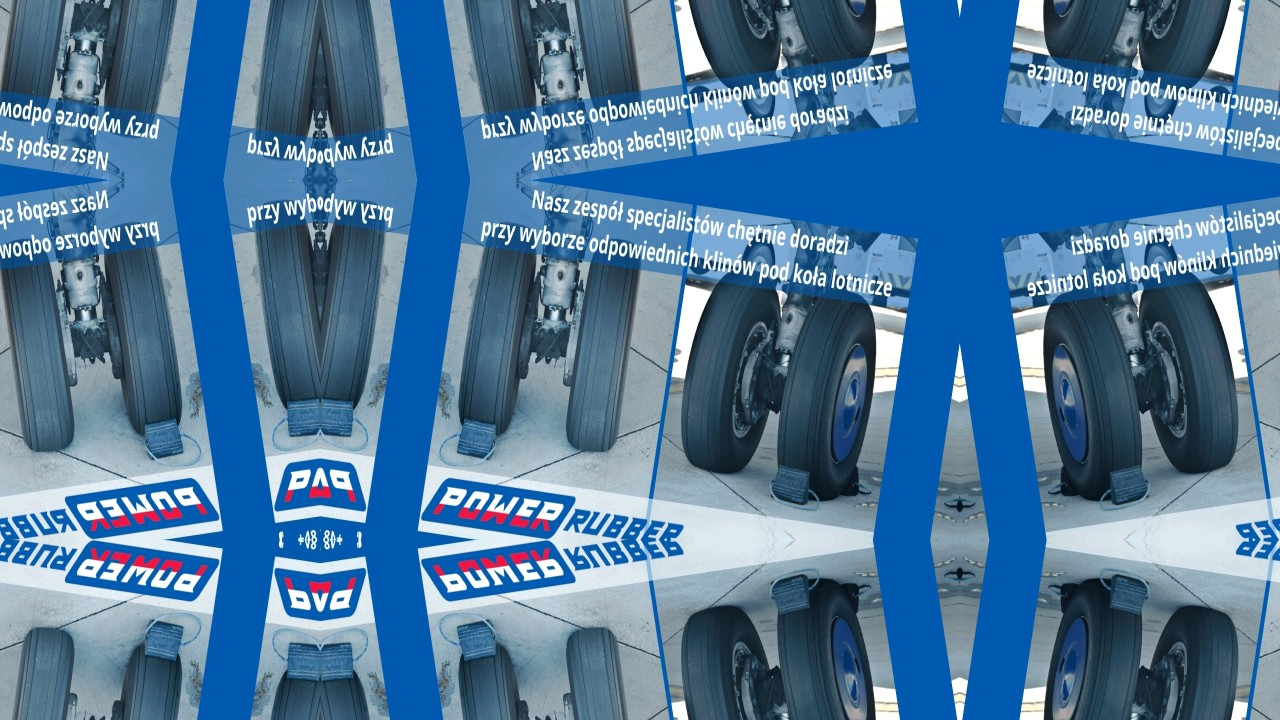chock: (140, 414, 186, 464), (454, 414, 500, 464), (140, 616, 186, 666), (454, 616, 500, 666), (769, 462, 814, 508), (1106, 462, 1151, 508), (769, 572, 814, 618), (1106, 572, 1151, 618), (282, 393, 320, 443), (320, 393, 358, 443), (282, 637, 320, 687), (320, 637, 358, 687), (841, 464, 865, 500), (1055, 464, 1079, 500), (841, 580, 865, 616), (1055, 580, 1079, 616)
wheel: (768, 290, 887, 506), (1033, 290, 1152, 506), (672, 271, 788, 479), (1132, 271, 1248, 479), (97, 219, 189, 439), (451, 219, 543, 439), (560, 237, 647, 455), (0, 237, 80, 455), (768, 574, 887, 720), (1033, 574, 1152, 720), (246, 196, 320, 417), (320, 196, 394, 417), (672, 601, 788, 720), (1132, 601, 1248, 720), (97, 0, 189, 141), (451, 0, 543, 141), (246, 0, 320, 164), (320, 0, 394, 164), (560, 0, 647, 123), (672, 0, 788, 89), (1132, 0, 1248, 89), (0, 0, 80, 123), (768, 0, 887, 70), (1033, 0, 1152, 70), (560, 625, 647, 720), (0, 625, 80, 720), (97, 641, 189, 720), (451, 641, 543, 720), (246, 663, 320, 720), (320, 663, 394, 720), (738, 76, 781, 125), (1139, 76, 1182, 125), (738, 235, 781, 284), (1139, 235, 1182, 284)
